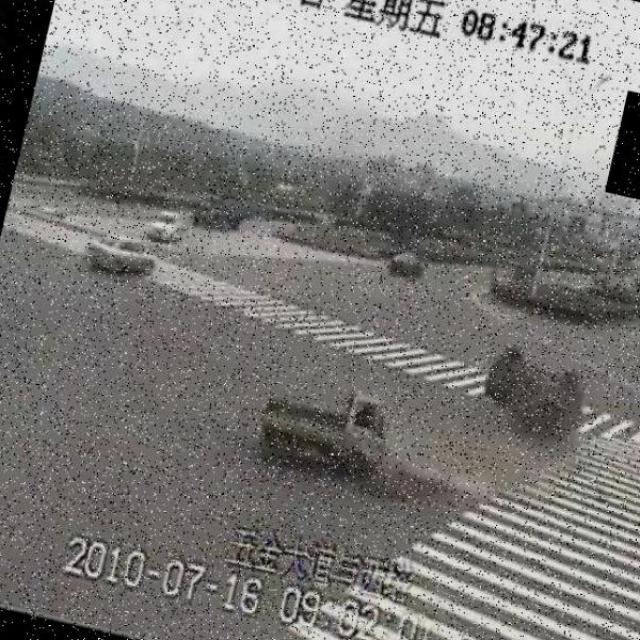accident: (471, 334, 598, 446)
